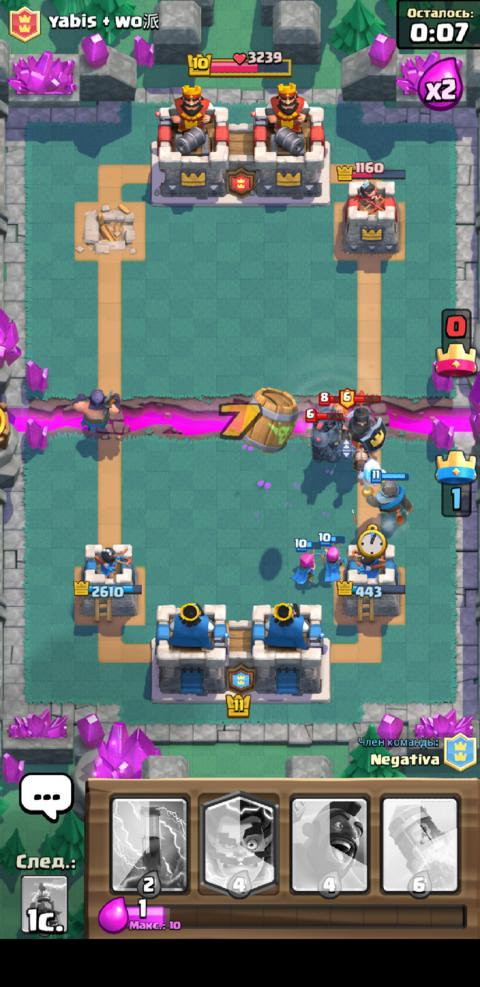ally_archer: (287, 536, 321, 587), (317, 530, 347, 583)
ally_executioner: (71, 387, 121, 432)
ally_goblin_barrel: (237, 386, 298, 454)
ally_ice_spirit: (356, 456, 385, 480)
ally_knight: (355, 468, 415, 524)
enemy_dark_prince: (337, 385, 386, 459)
enemy_pekka: (303, 407, 346, 464)
enemy_valkyrie: (317, 391, 347, 414)
